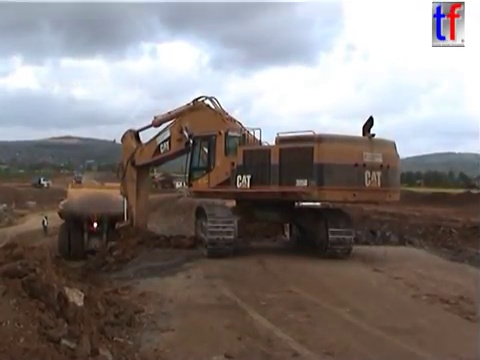excavator: (105, 93, 403, 272)
truck: (55, 180, 135, 261), (145, 169, 177, 192), (29, 175, 54, 190)
worker: (39, 213, 51, 237)
